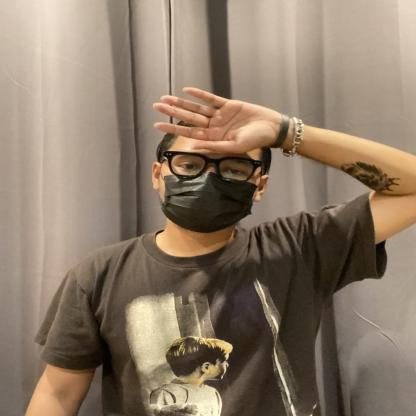Sick: (73, 71, 320, 237)
